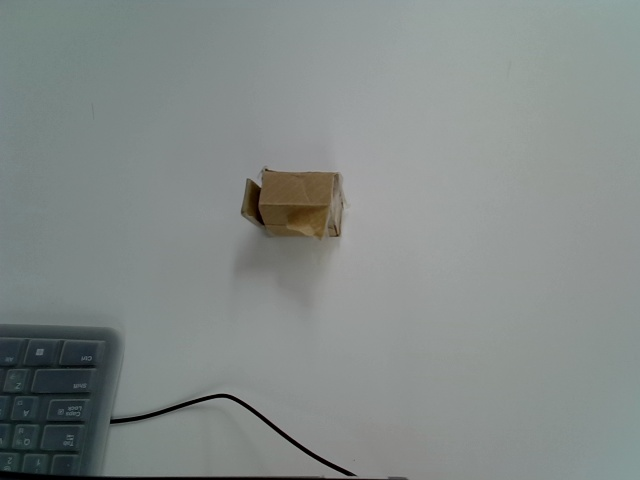defect: (240, 168, 351, 239)
